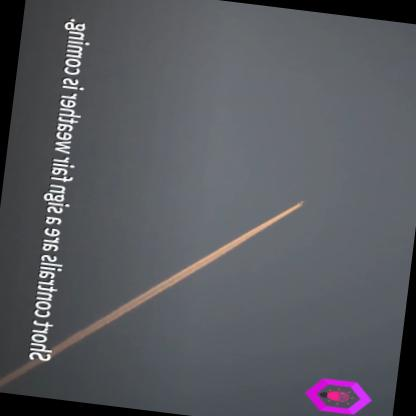plane: (296, 199, 307, 207)
